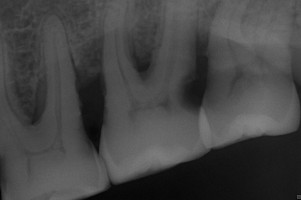Endo-Periodontal Lesion: (132, 20, 158, 74), (29, 76, 48, 125)
